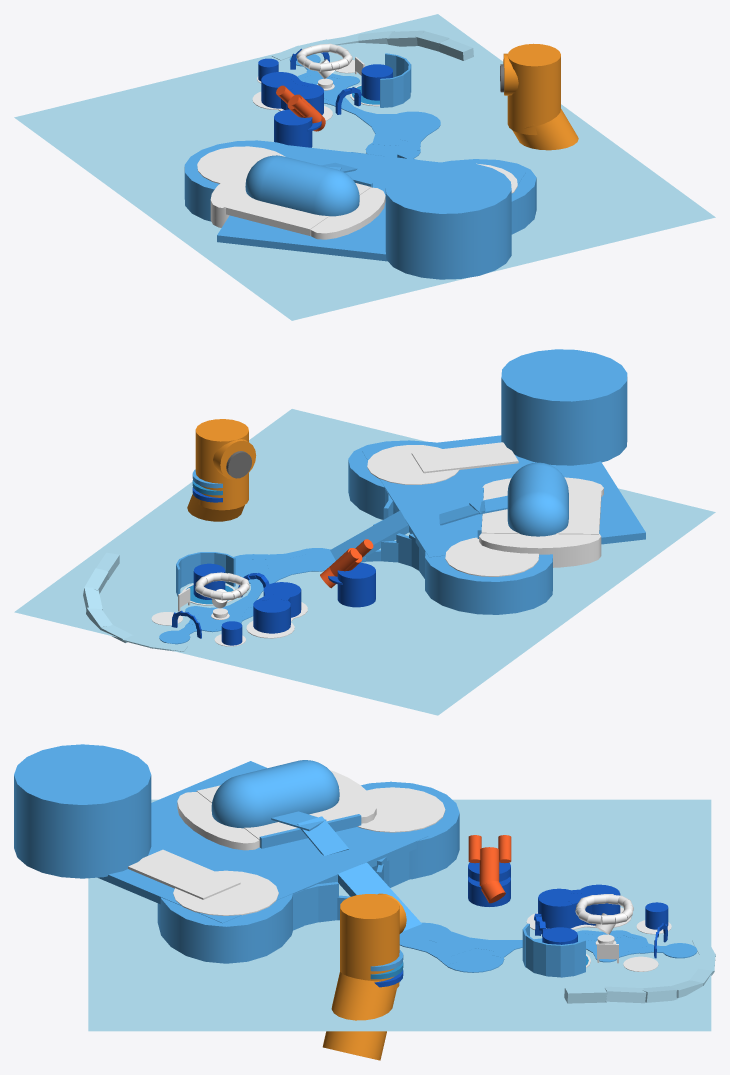
File: Whitebox 1.fbx
3 views of the same model, one above another, from view 1: azimuth 30°, elevation 25°; view 2: azimuth 150°, elevation 25°; view 3: azimuth 270°, elevation 25° (orthographic). The views are drawn at different scales.
Parts seen in each view (by area): view 1: Floor, Cylinder__19__1, Cube__35_, Submarine, Cylinder__2__1, Cube__54_, Cylinder__22__1, Cylinder__20__1, Cylinder__24__1, Cylinder__16_, Cylinder__9_, Cylinder__1_ (+7 smaller); view 2: Floor, Cylinder__19__1, Cube__35_, Cylinder__22__1, Submarine, Cylinder__2__1, Cylinder__14_, Cylinder__24__1, Cube__54_, Cube__65_, Cylinder__21__1, Cylinder__16_ (+10 smaller); view 3: Floor, Cylinder__19__1, Cube__35_, Submarine, Cylinder__16_, Cylinder__2__1, Cylinder__9_, Cylinder__22__1, Cylinder__24__1, Cylinder__21__1, Cube__65_, Cylinder__20__1 (+19 smaller).
Part boxes in pixels (<box>): Floor: <box>14,14,715,320</box>; Cylinder__19__1: <box>385,161,511,279</box>; Cube__35_: <box>217,143,525,261</box>; Submarine: <box>245,155,359,216</box>; Cylinder__2__1: <box>507,43,560,135</box>; Cube__54_: <box>223,183,371,235</box>; Cylinder__22__1: <box>184,140,285,221</box>; Cylinder__20__1: <box>310,187,385,239</box>; Cylinder__24__1: <box>197,146,285,183</box>; Cylinder__16_: <box>445,159,536,234</box>; Cylinder__9_: <box>512,109,578,150</box>; Cylinder__1_: <box>274,109,312,147</box>; Floor: <box>14,409,715,715</box>; Cylinder__19__1: <box>501,349,627,465</box>; Cube__35_: <box>362,435,645,557</box>; Cylinder__22__1: <box>425,551,552,614</box>; Submarine: <box>507,462,568,536</box>; Cylinder__2__1: <box>195,419,248,510</box>; Cylinder__14_: <box>479,533,601,567</box>; Cylinder__24__1: <box>445,537,539,576</box>; Cube__54_: <box>481,490,601,534</box>; Cube__65_: <box>411,442,518,473</box>; Cylinder__21__1: <box>367,445,459,484</box>; Cylinder__16_: <box>348,440,435,519</box>; Floor: <box>88,799,711,1031</box>; Cylinder__19__1: <box>14,744,151,878</box>; Cube__35_: <box>98,761,428,923</box>; Submarine: <box>211,760,339,828</box>; Cylinder__16_: <box>157,894,292,963</box>; Cylinder__2__1: <box>340,894,399,989</box>; Cylinder__9_: <box>322,972,396,1060</box>; Cylinder__22__1: <box>361,781,459,879</box>; Cylinder__24__1: <box>357,787,445,832</box>; Cylinder__21__1: <box>173,870,278,915</box>; Cube__65_: <box>128,849,240,899</box>; Cylinder__20__1: <box>177,792,259,850</box>.
Bounding box in the file's own units: 14244 × 4577 × 18119.
